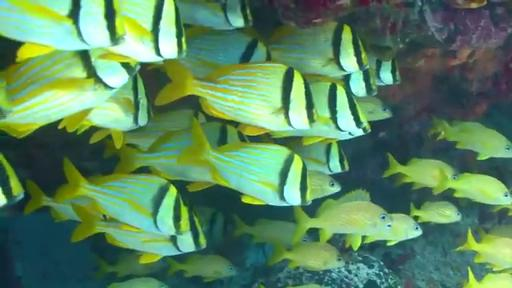Fish: (0, 49, 139, 137), (155, 60, 316, 135), (178, 121, 311, 205), (55, 159, 193, 235), (72, 204, 206, 263), (0, 0, 126, 61), (60, 75, 151, 148), (270, 81, 370, 144), (268, 20, 368, 78), (103, 0, 186, 62), (115, 128, 212, 181), (294, 190, 392, 241), (180, 27, 270, 78), (24, 180, 108, 221), (429, 119, 511, 159), (124, 109, 198, 151), (383, 153, 458, 188), (433, 173, 511, 204), (456, 229, 511, 271), (177, 0, 252, 30), (268, 242, 345, 271), (284, 140, 348, 174), (94, 252, 167, 278), (168, 255, 237, 282), (234, 217, 296, 247), (363, 214, 422, 245), (193, 207, 235, 247), (0, 153, 24, 207), (410, 201, 461, 223), (342, 68, 377, 97), (308, 170, 341, 199), (464, 267, 511, 287), (356, 97, 392, 121), (369, 58, 400, 85), (108, 277, 167, 287), (0, 72, 11, 119), (446, 0, 488, 9), (488, 224, 511, 238), (492, 204, 511, 215), (286, 284, 324, 287)
